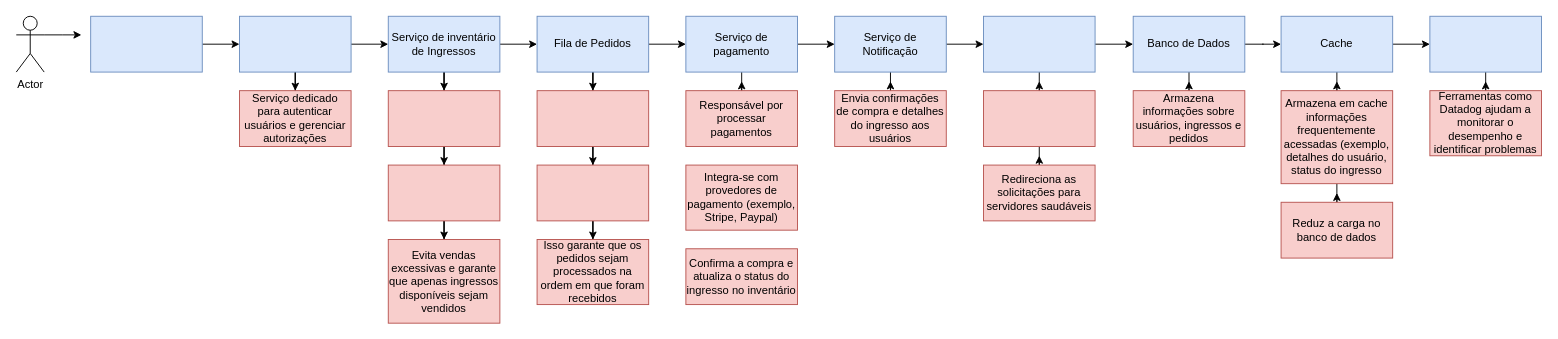
The diagram is 1558 pixels wide and 339 high, and some of its shapes have lost their labels. The box of each missing label's shape, as (x1, y1, x2, y2) in pixels:
A fila é gerenciada por um sistema de mensagens(RabbiMQ ou Kafka): (536, 164, 649, 221)
Autenticação e Autorização: (239, 15, 351, 72)
Balanceamento de Carga: (983, 15, 1095, 72)
Distribui o tráfego entre instâncias dos serviços: (983, 90, 1095, 146)
Login: (90, 15, 202, 72)
Logs e Monitoramento: (1429, 15, 1541, 72)
Mantém registro em tempo real dos ingressos disponíveis: (387, 90, 500, 146)
Quando um usuário tenta comprar um ingresso, o pedido é colocado em uma fila: (536, 90, 649, 146)
Recebe atualização quando os ingressos são comprados ou liberados: (387, 164, 500, 221)
